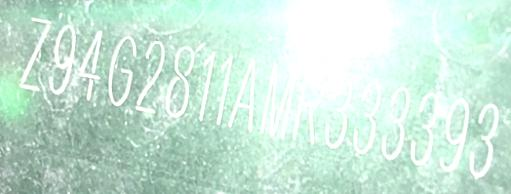letter: (258, 60, 298, 140), (17, 13, 52, 92), (292, 67, 325, 145), (135, 39, 167, 116), (438, 96, 470, 171), (468, 101, 498, 178), (165, 43, 195, 119), (352, 80, 382, 154), (108, 33, 138, 107), (227, 57, 256, 133), (381, 84, 409, 159), (48, 25, 77, 96), (410, 91, 438, 164), (325, 73, 352, 147), (77, 27, 102, 101), (197, 49, 217, 123), (217, 53, 235, 129)
